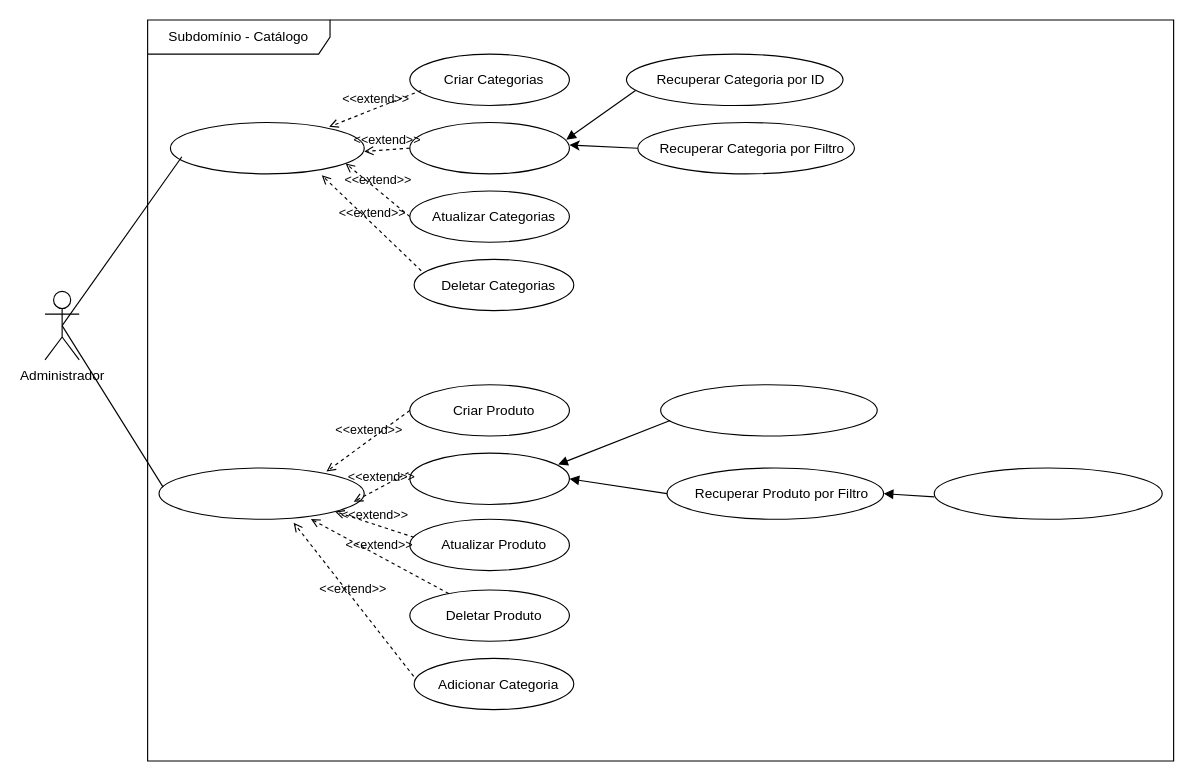
The diagram is 1194 pixels wide and 781 high, and some of its shapes have lost their labels. The centre of each missing label's shape, as x and y in pixels:
"Gerenciar Categoria" goes at [266,147].
"Gerenciar Produto" goes at [261,493].
"Recuperar Categorias" goes at [489,147].
"Recuperar Produto" goes at [489,478].
"Recuperar Produto por Categoria" goes at [1047,493].
"Recuperar Produto por ID" goes at [768,410].
